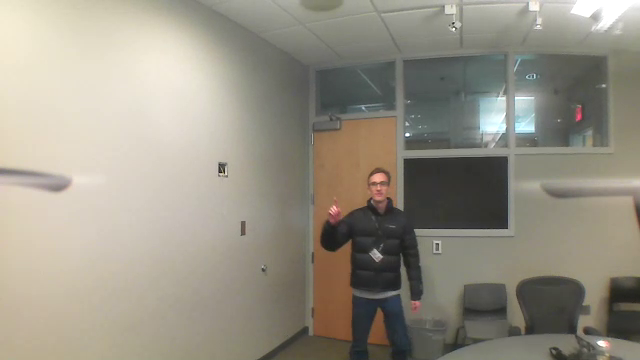up: (323, 196, 344, 226)
